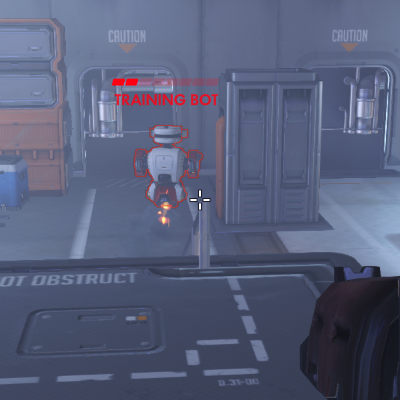hpbar: (111, 78, 220, 86)
